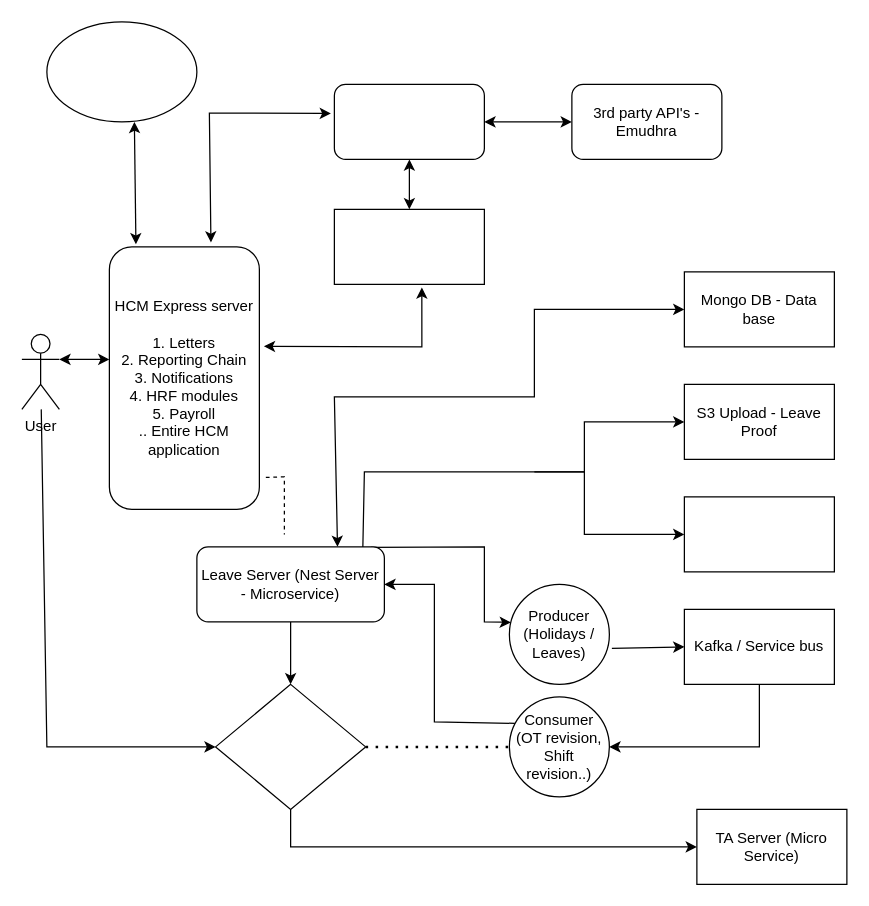
Some shapes in this 869 by 906 pixel diagram are drawn without their labels. The centre of each missing label's shape, as x and y in pixels:
"Letters Python Server (Fast API's)" belongs at (408,121).
"Logic and Requirements" belongs at (290,746).
"MySql; - Database Connection" belongs at (121,71).
"Red Shift" belongs at (758,534).
"S3 Uploads" belongs at (408,246).
